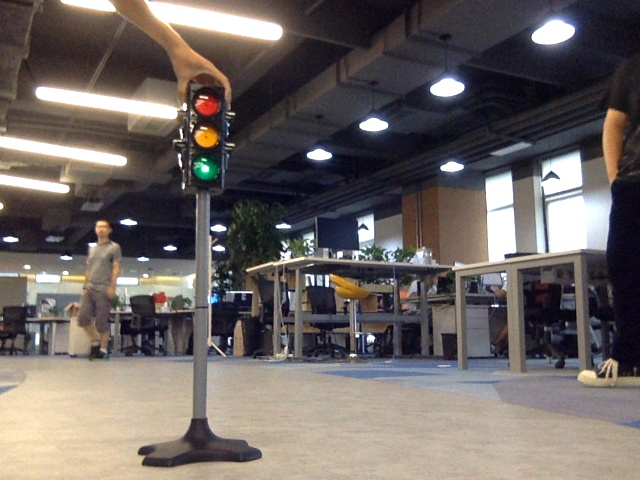green: (188, 97, 220, 184)
